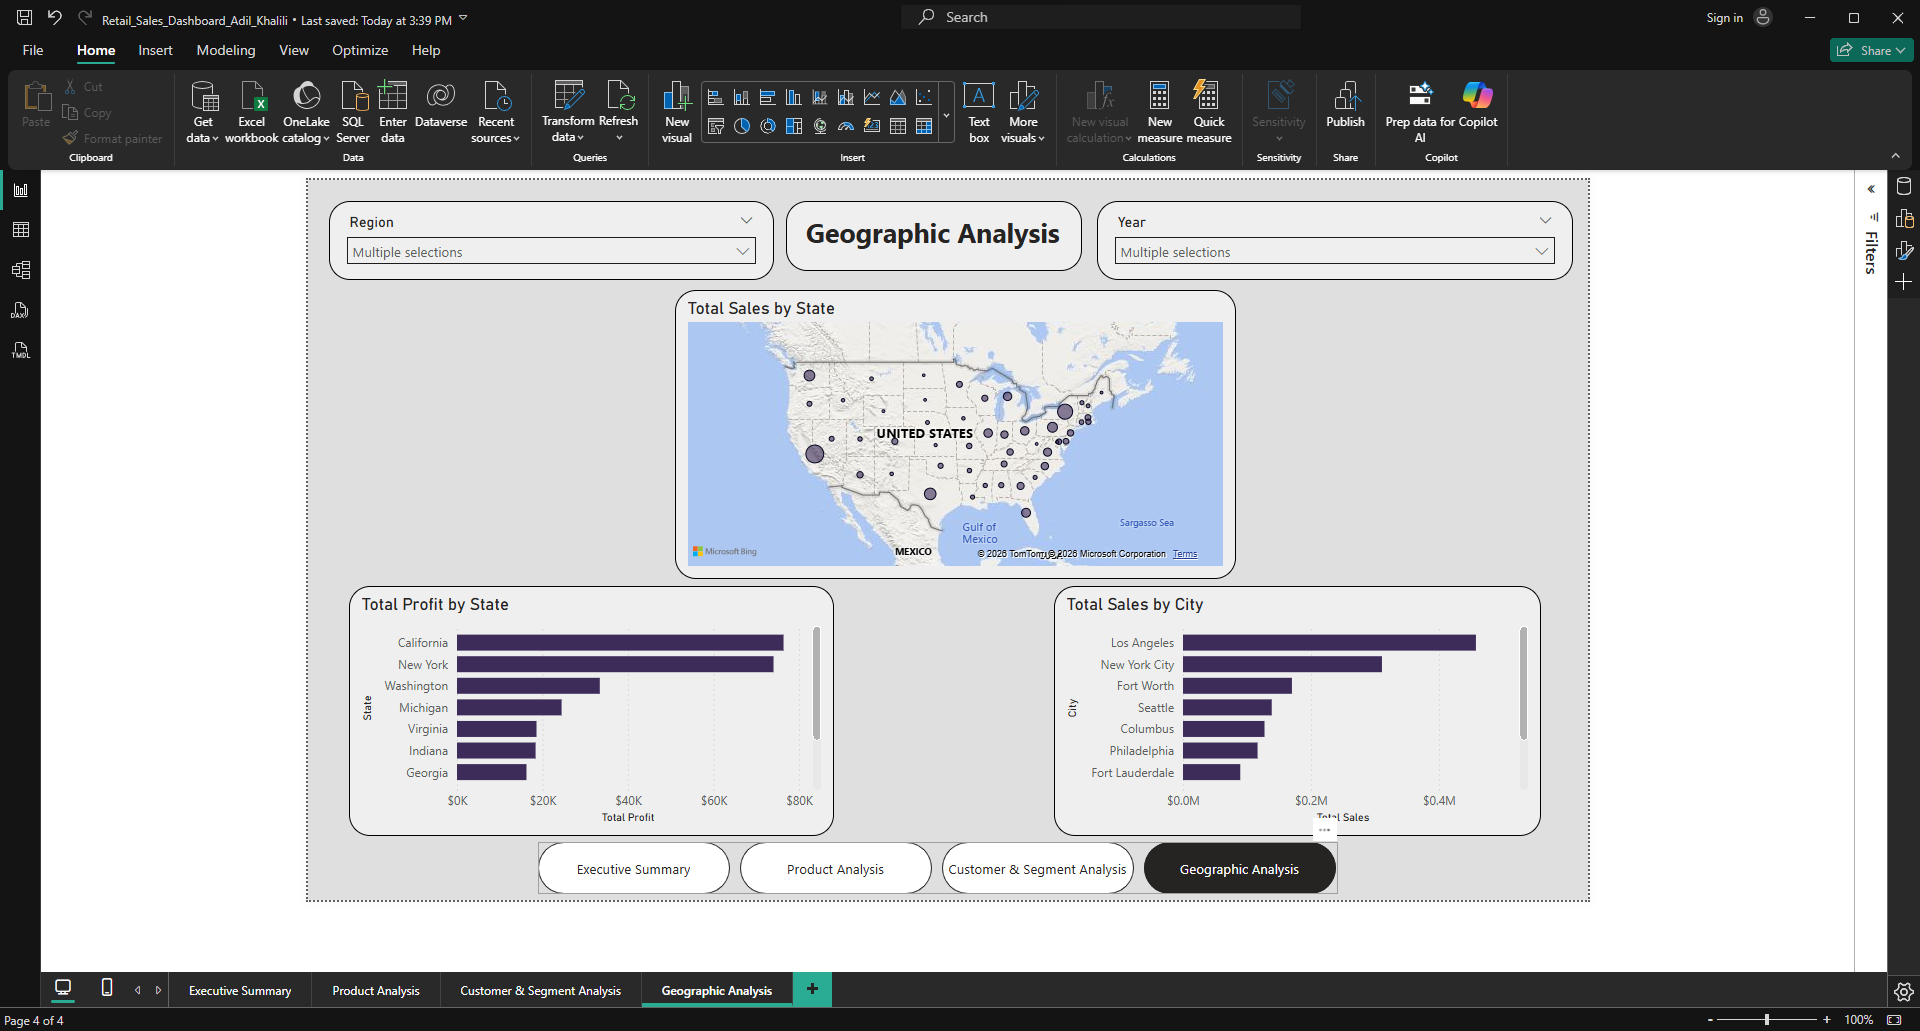

This screenshot's page, from the dashboard's own definition file:
{"tool":"powerbi","page":{"name":" Geographic Analysis","canvas":[1280,720],"ordinal":3},"visuals":[{"type":"map","fields":{"Category":["Dim_Location.State"],"Size":["_Measures.Total Sales"]},"box":[367,110,561,289],"z":0},{"type":"clusteredBarChart","fields":{"Category":["Dim_Location.City"],"Y":["_Measures.Total Sales"]},"box":[746.3,405.6,487,250],"z":1},{"type":"clusteredBarChart","fields":{"Category":["Dim_Location.State"],"Y":["_Measures.Total Profit"]},"box":[40.7,405.6,485.2,250],"z":2},{"type":"slicer","fields":{"Values":["Dim_Location.Region"]},"box":[21,21,445,79],"z":3},{"type":"slicer","fields":{"Values":["Dim_Date.Year"]},"box":[789,21,476,79],"z":4},{"type":"textbox","box":[477.7,21.2,296.3,69.5],"z":5},{"type":"pageNavigator","box":[229.9,662.1,800,51.5],"z":6}]}

Visuals, with their boxes on the page's 1280x720 design canvas (x1, y1, x2, y2). These are canvas units, not pixel positions in the 1920x1031 screenshot, which may show the page scaled, cropped or inside an application window:
map - Dim_Location.State x _Measures.Total Sales: crop(367, 110, 928, 399)
clusteredBarChart - Dim_Location.City x _Measures.Total Sales: crop(746, 406, 1233, 656)
clusteredBarChart - Dim_Location.State x _Measures.Total Profit: crop(41, 406, 526, 656)
slicer - Dim_Location.Region: crop(21, 21, 466, 100)
slicer - Dim_Date.Year: crop(789, 21, 1265, 100)
textbox: crop(478, 21, 774, 91)
pageNavigator: crop(230, 662, 1030, 714)
